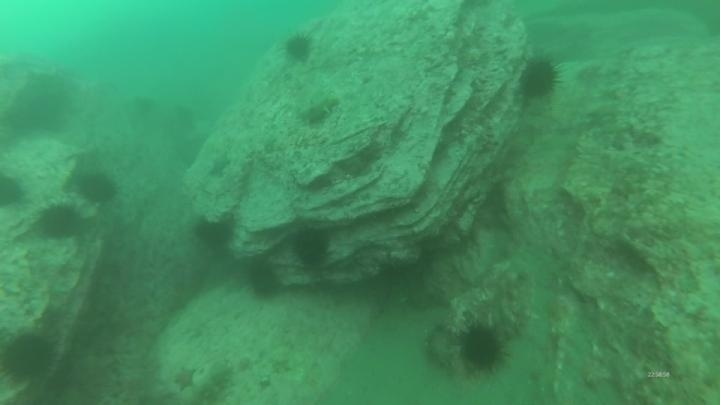echinus: (1, 328, 58, 385), (456, 321, 508, 374), (517, 54, 562, 101), (36, 201, 85, 242), (290, 225, 332, 269), (243, 256, 283, 301), (75, 169, 119, 206), (192, 215, 236, 251), (282, 31, 315, 64), (1, 172, 27, 210)
holothurian: (188, 361, 236, 404), (298, 93, 342, 127)
starfish: (205, 152, 233, 180), (171, 365, 200, 392)
